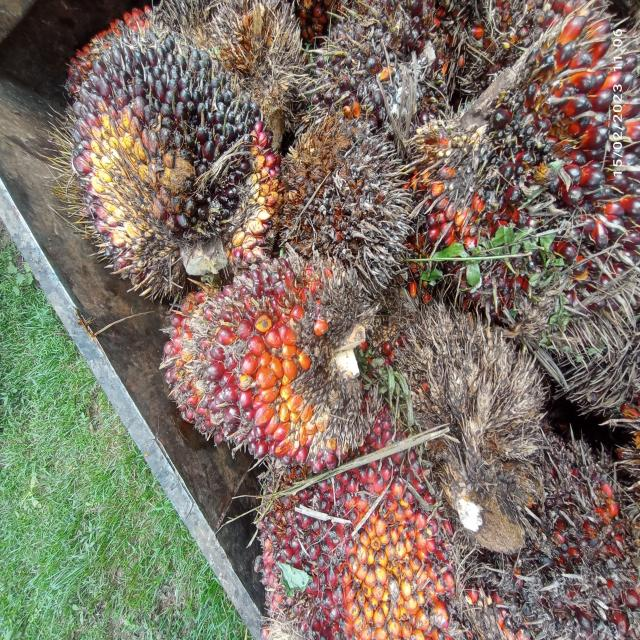fraksi 00: (44, 25, 295, 331)
fraksi 1: (403, 0, 640, 273)
fraksi 3: (90, 231, 423, 501), (242, 449, 462, 640)
